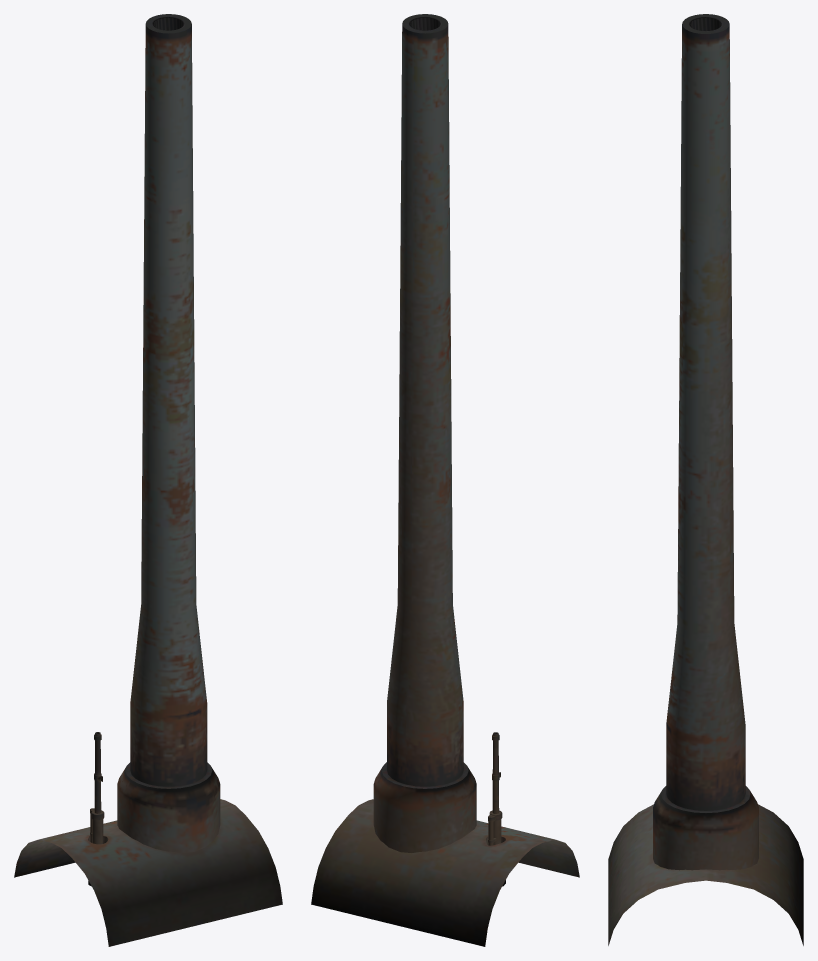
Rendered from Gun_01.glb.
The picture shows the model from 3 angles, left to right: view 1: azimuth 30°, elevation 25°; view 2: azimuth 150°, elevation 25°; view 3: azimuth 270°, elevation 25°; orthographic projection. The views are drawn at different scales.
Visible parts, largest first — view 1: set_0_group_0; view 2: set_0_group_0; view 3: set_0_group_0.
Boxes of the visible parts, left/top/right/bottom form: set_0_group_0: left=14, top=14, right=282, bottom=946; set_0_group_0: left=311, top=14, right=579, bottom=946; set_0_group_0: left=608, top=14, right=803, bottom=945.
Bounding box in the file's own units: 0.6898 × 3.27 × 0.6501.
1 material, 1 textured.
